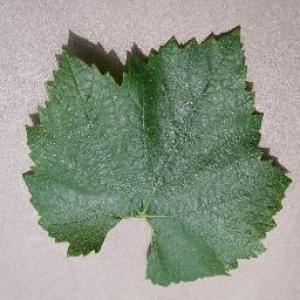Folha: (21, 25, 292, 286)
